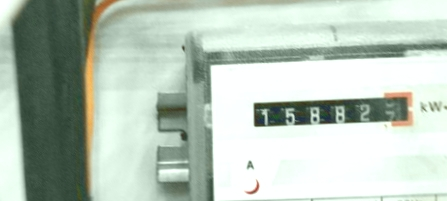1: (257, 106, 267, 124)
2: (356, 101, 369, 121)
5: (279, 105, 294, 125)
7: (381, 107, 393, 119)
8: (330, 102, 344, 123), (306, 103, 319, 124)
screen: (245, 88, 415, 134)
